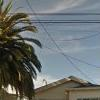Palm tree: (1, 4, 45, 99)
